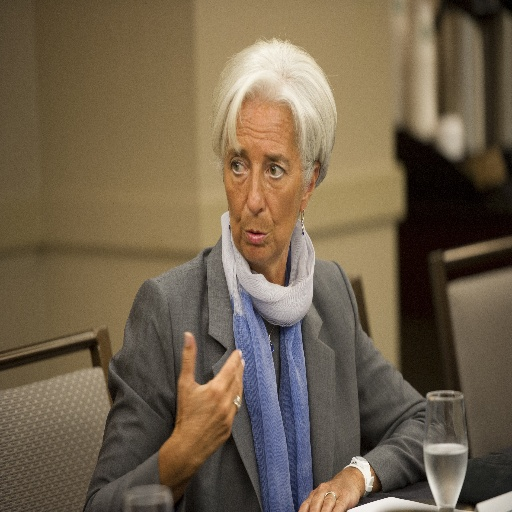hand: (163, 335, 247, 484), (296, 468, 363, 511)
